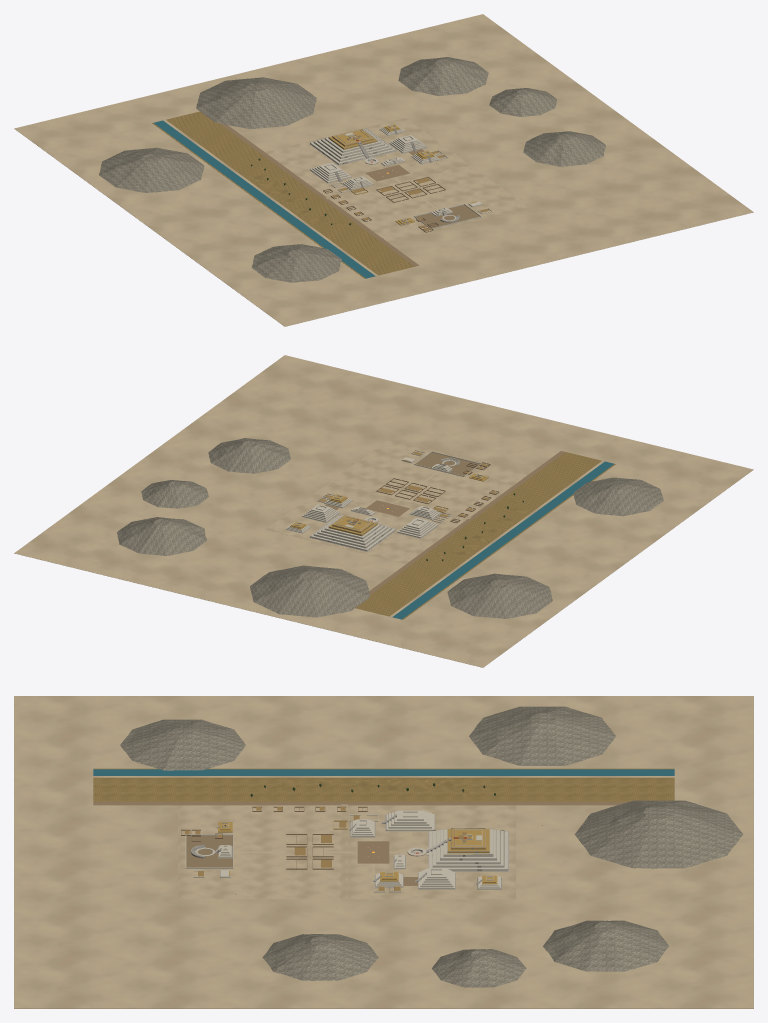
The picture shows the model from 3 angles, top to bottom: view 1: azimuth 30°, elevation 25°; view 2: azimuth 150°, elevation 25°; view 3: azimuth 270°, elevation 25°; orthographic projection. The views are drawn at different scales.
Parts seen in each view (by area): view 1: GEO-Caral_LOD1_Infra_Terrain, GEO-Caral_LOD1_Infra_UpperHalf, GEO-Caral_LOD1_Mayor, GEO-Caral_LOD1_Infra_Residential, GEO-Caral_LOD1_Anfiteatro; view 2: GEO-Caral_LOD1_Infra_Terrain, GEO-Caral_LOD1_Infra_UpperHalf, GEO-Caral_LOD1_Mayor, GEO-Caral_LOD1_Infra_Residential, GEO-Caral_LOD1_Anfiteatro; view 3: GEO-Caral_LOD1_Infra_Terrain, GEO-Caral_LOD1_Infra_UpperHalf, GEO-Caral_LOD1_Mayor, GEO-Caral_LOD1_Anfiteatro, GEO-Caral_LOD1_Infra_Residential.
Part boxes in pixels (x1,y1,x2,y2): GEO-Caral_LOD1_Infra_Terrain: [14, 14, 753, 326]; GEO-Caral_LOD1_Infra_UpperHalf: [309, 124, 439, 190]; GEO-Caral_LOD1_Mayor: [309, 128, 396, 165]; GEO-Caral_LOD1_Infra_Residential: [323, 150, 447, 221]; GEO-Caral_LOD1_Anfiteatro: [414, 204, 481, 228]; GEO-Caral_LOD1_Infra_Terrain: [14, 355, 753, 667]; GEO-Caral_LOD1_Infra_UpperHalf: [285, 494, 440, 538]; GEO-Caral_LOD1_Mayor: [309, 515, 396, 551]; GEO-Caral_LOD1_Infra_Residential: [317, 478, 498, 523]; GEO-Caral_LOD1_Anfiteatro: [414, 451, 481, 476]; GEO-Caral_LOD1_Infra_Terrain: [14, 696, 753, 1008]; GEO-Caral_LOD1_Infra_UpperHalf: [349, 810, 501, 889]; GEO-Caral_LOD1_Mayor: [426, 828, 508, 871]; GEO-Caral_LOD1_Anfiteatro: [185, 834, 233, 868]; GEO-Caral_LOD1_Infra_Residential: [252, 806, 401, 892].
Bounding box in the file's own units: 1400 × 51.68 × 1400.
Materials: 23 (17 with a texture image).
